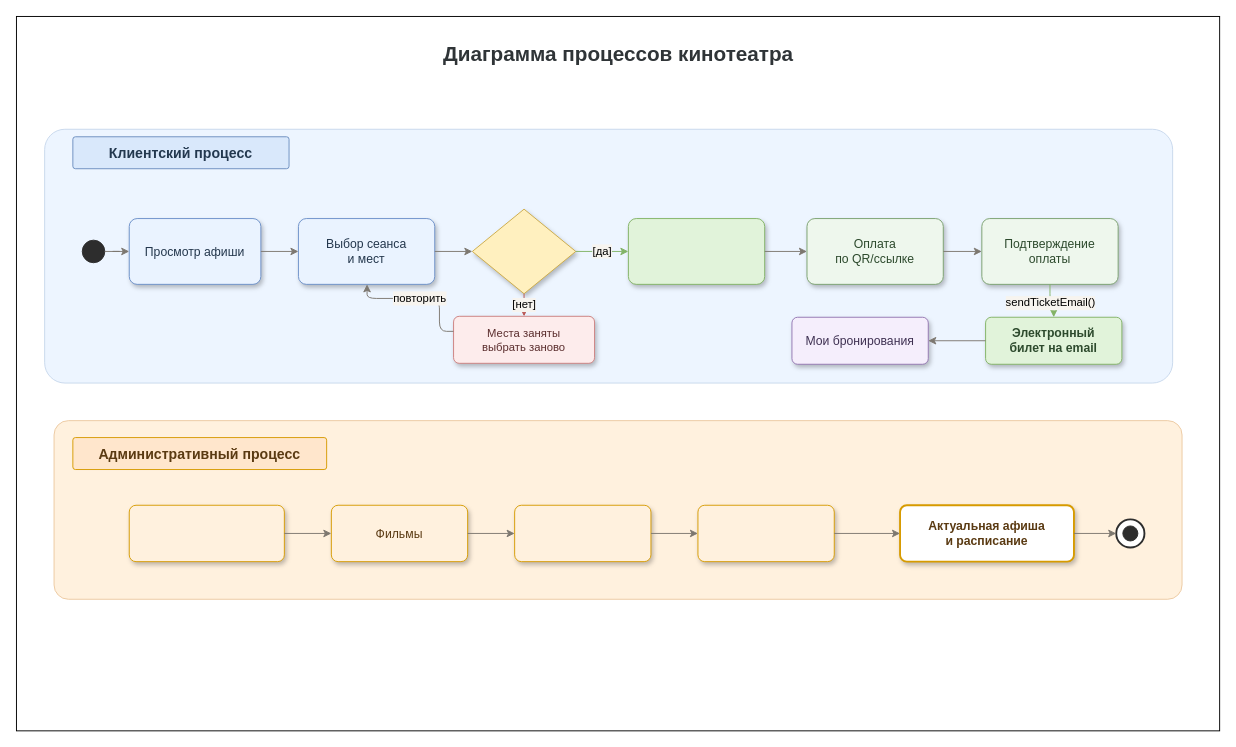
The diagram is 1236 pixels wide and 747 high, and some of its shapes have lost their labels. Each missing label, with the centre of its shape:
"Бронирования" belongs at (766,534).
"Вход администратора" belongs at (207,534).
"Проверка мест" belongs at (524,252).
"Сеансы" belongs at (583,534).
"Создание брони" belongs at (697,252).
